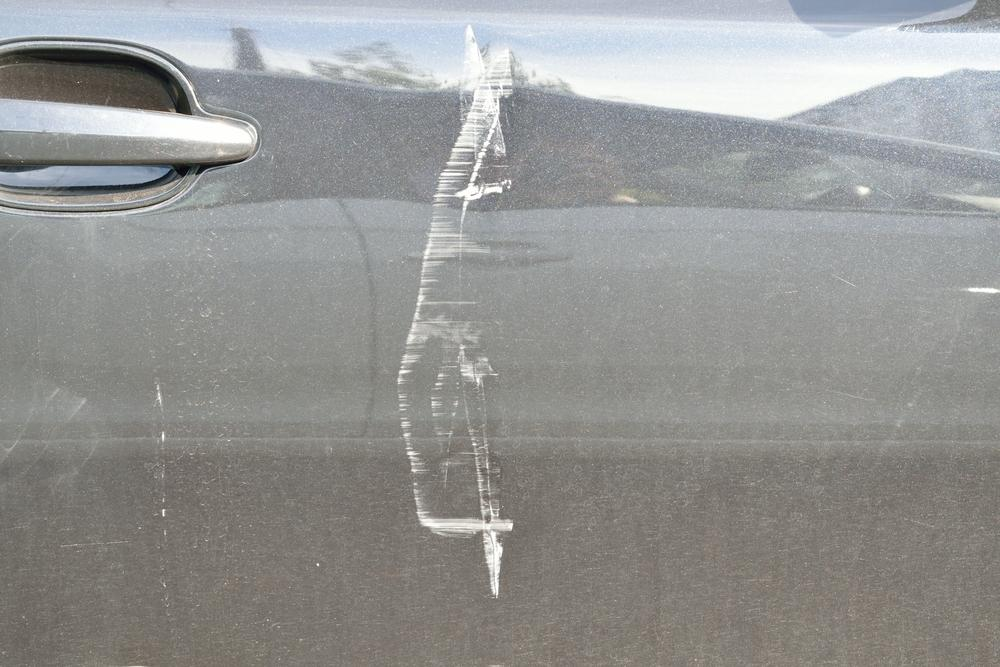scratch: (388, 25, 526, 597)
